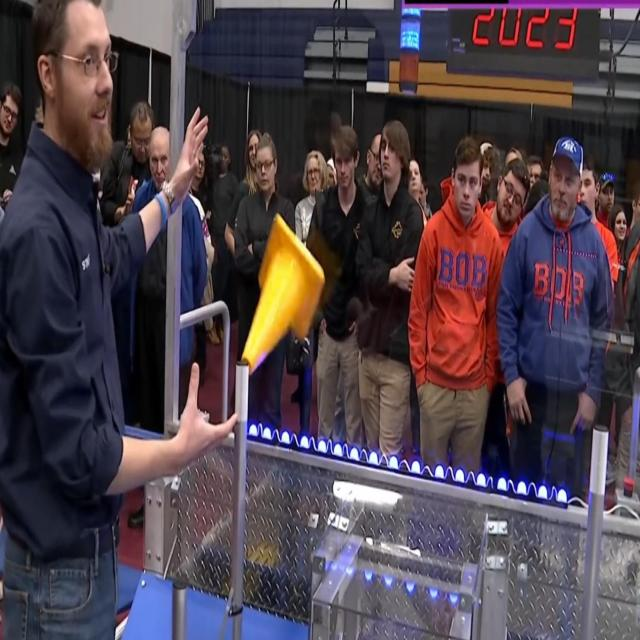frc_cone: (240, 212, 325, 374)
